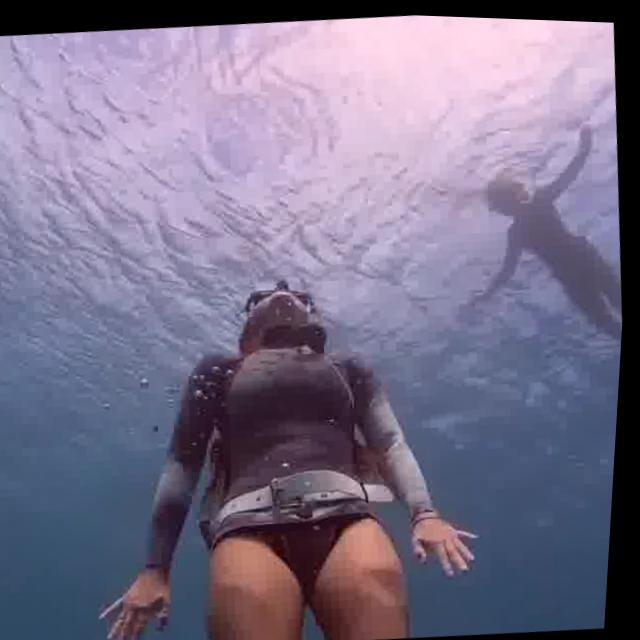human: (66, 228, 501, 640), (441, 99, 636, 429)
